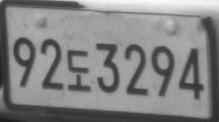2: (123, 42, 149, 96), (40, 37, 63, 89)
3: (95, 42, 120, 93)
4: (178, 47, 205, 101)
9: (150, 44, 175, 97), (12, 36, 36, 88)
도: (66, 49, 91, 92)
